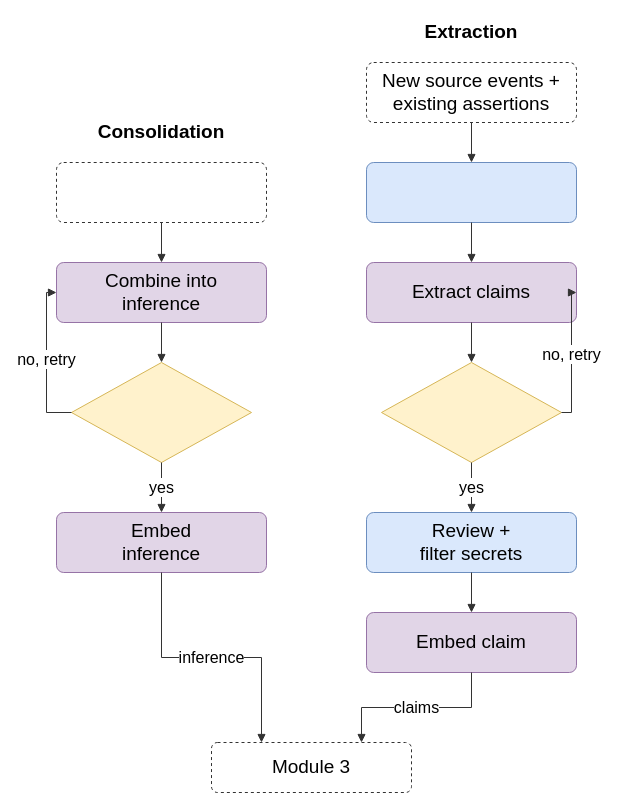
Some shapes in this 618 by 810 pixel diagram are drawn without their labels. The shapes that lost their labels are listed below. From the top down, each one's centre as x and y in pixels, then its label:
point 161,192: Active assertions (after M3 commit)
point 471,192: Prompt builder
point 161,412: At least 2 supports?
point 471,412: Quotes valid?
